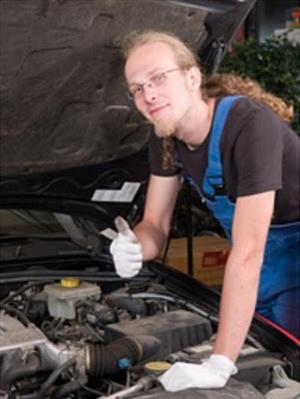person: (108, 28, 300, 394)
